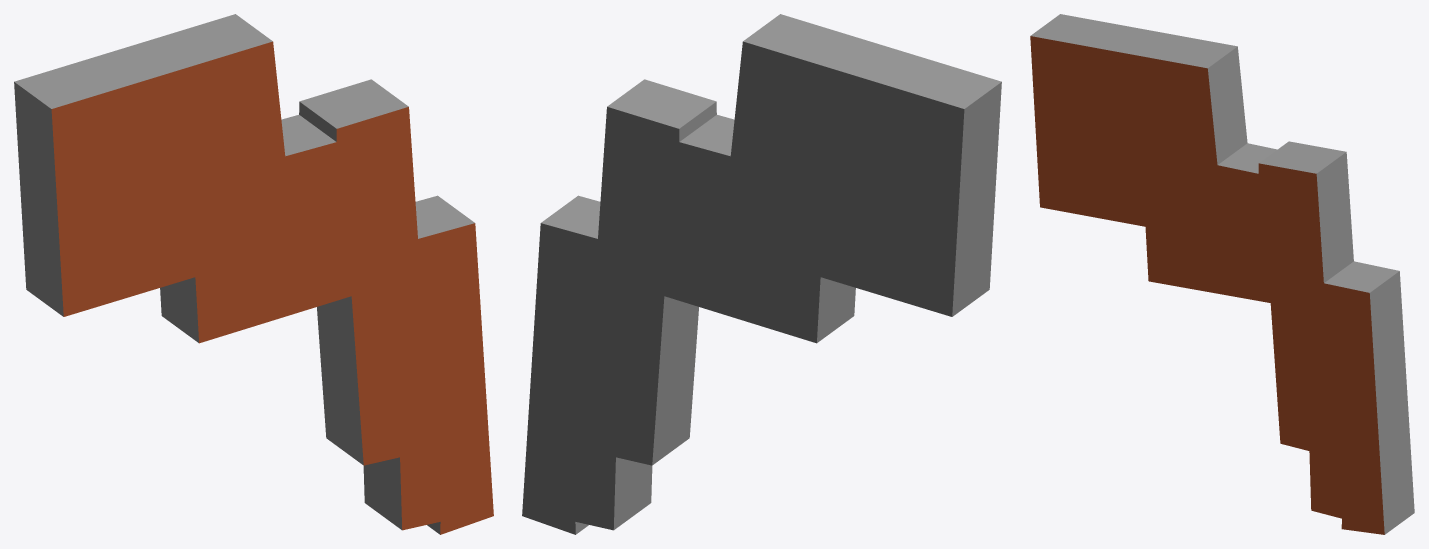
The model's file is construction_5228_assumed_A_Casa_h6m.obj.
3 views of the same model, side by side, from view 1: azimuth 30°, elevation 25°; view 2: azimuth 150°, elevation 25°; view 3: azimuth 330°, elevation 25° (orthographic). The views are drawn at different scales.
Visible parts, largest first — view 1: construction_5228_assumed_A_Casa; view 2: construction_5228_assumed_A_Casa; view 3: construction_5228_assumed_A_Casa.
Part boxes in pixels (left/top/right/bottom): construction_5228_assumed_A_Casa: left=14, top=14, right=493, bottom=534; construction_5228_assumed_A_Casa: left=522, top=14, right=1001, bottom=534; construction_5228_assumed_A_Casa: left=1030, top=14, right=1414, bottom=534.
Bounding box in the file's own units: 40.86 × 47.17 × 6.
